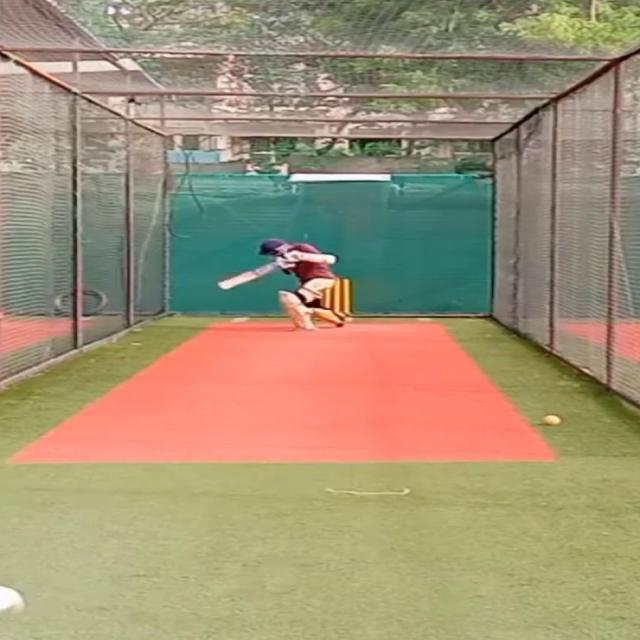ball: (537, 412, 564, 425)
stump: (329, 276, 351, 316)
